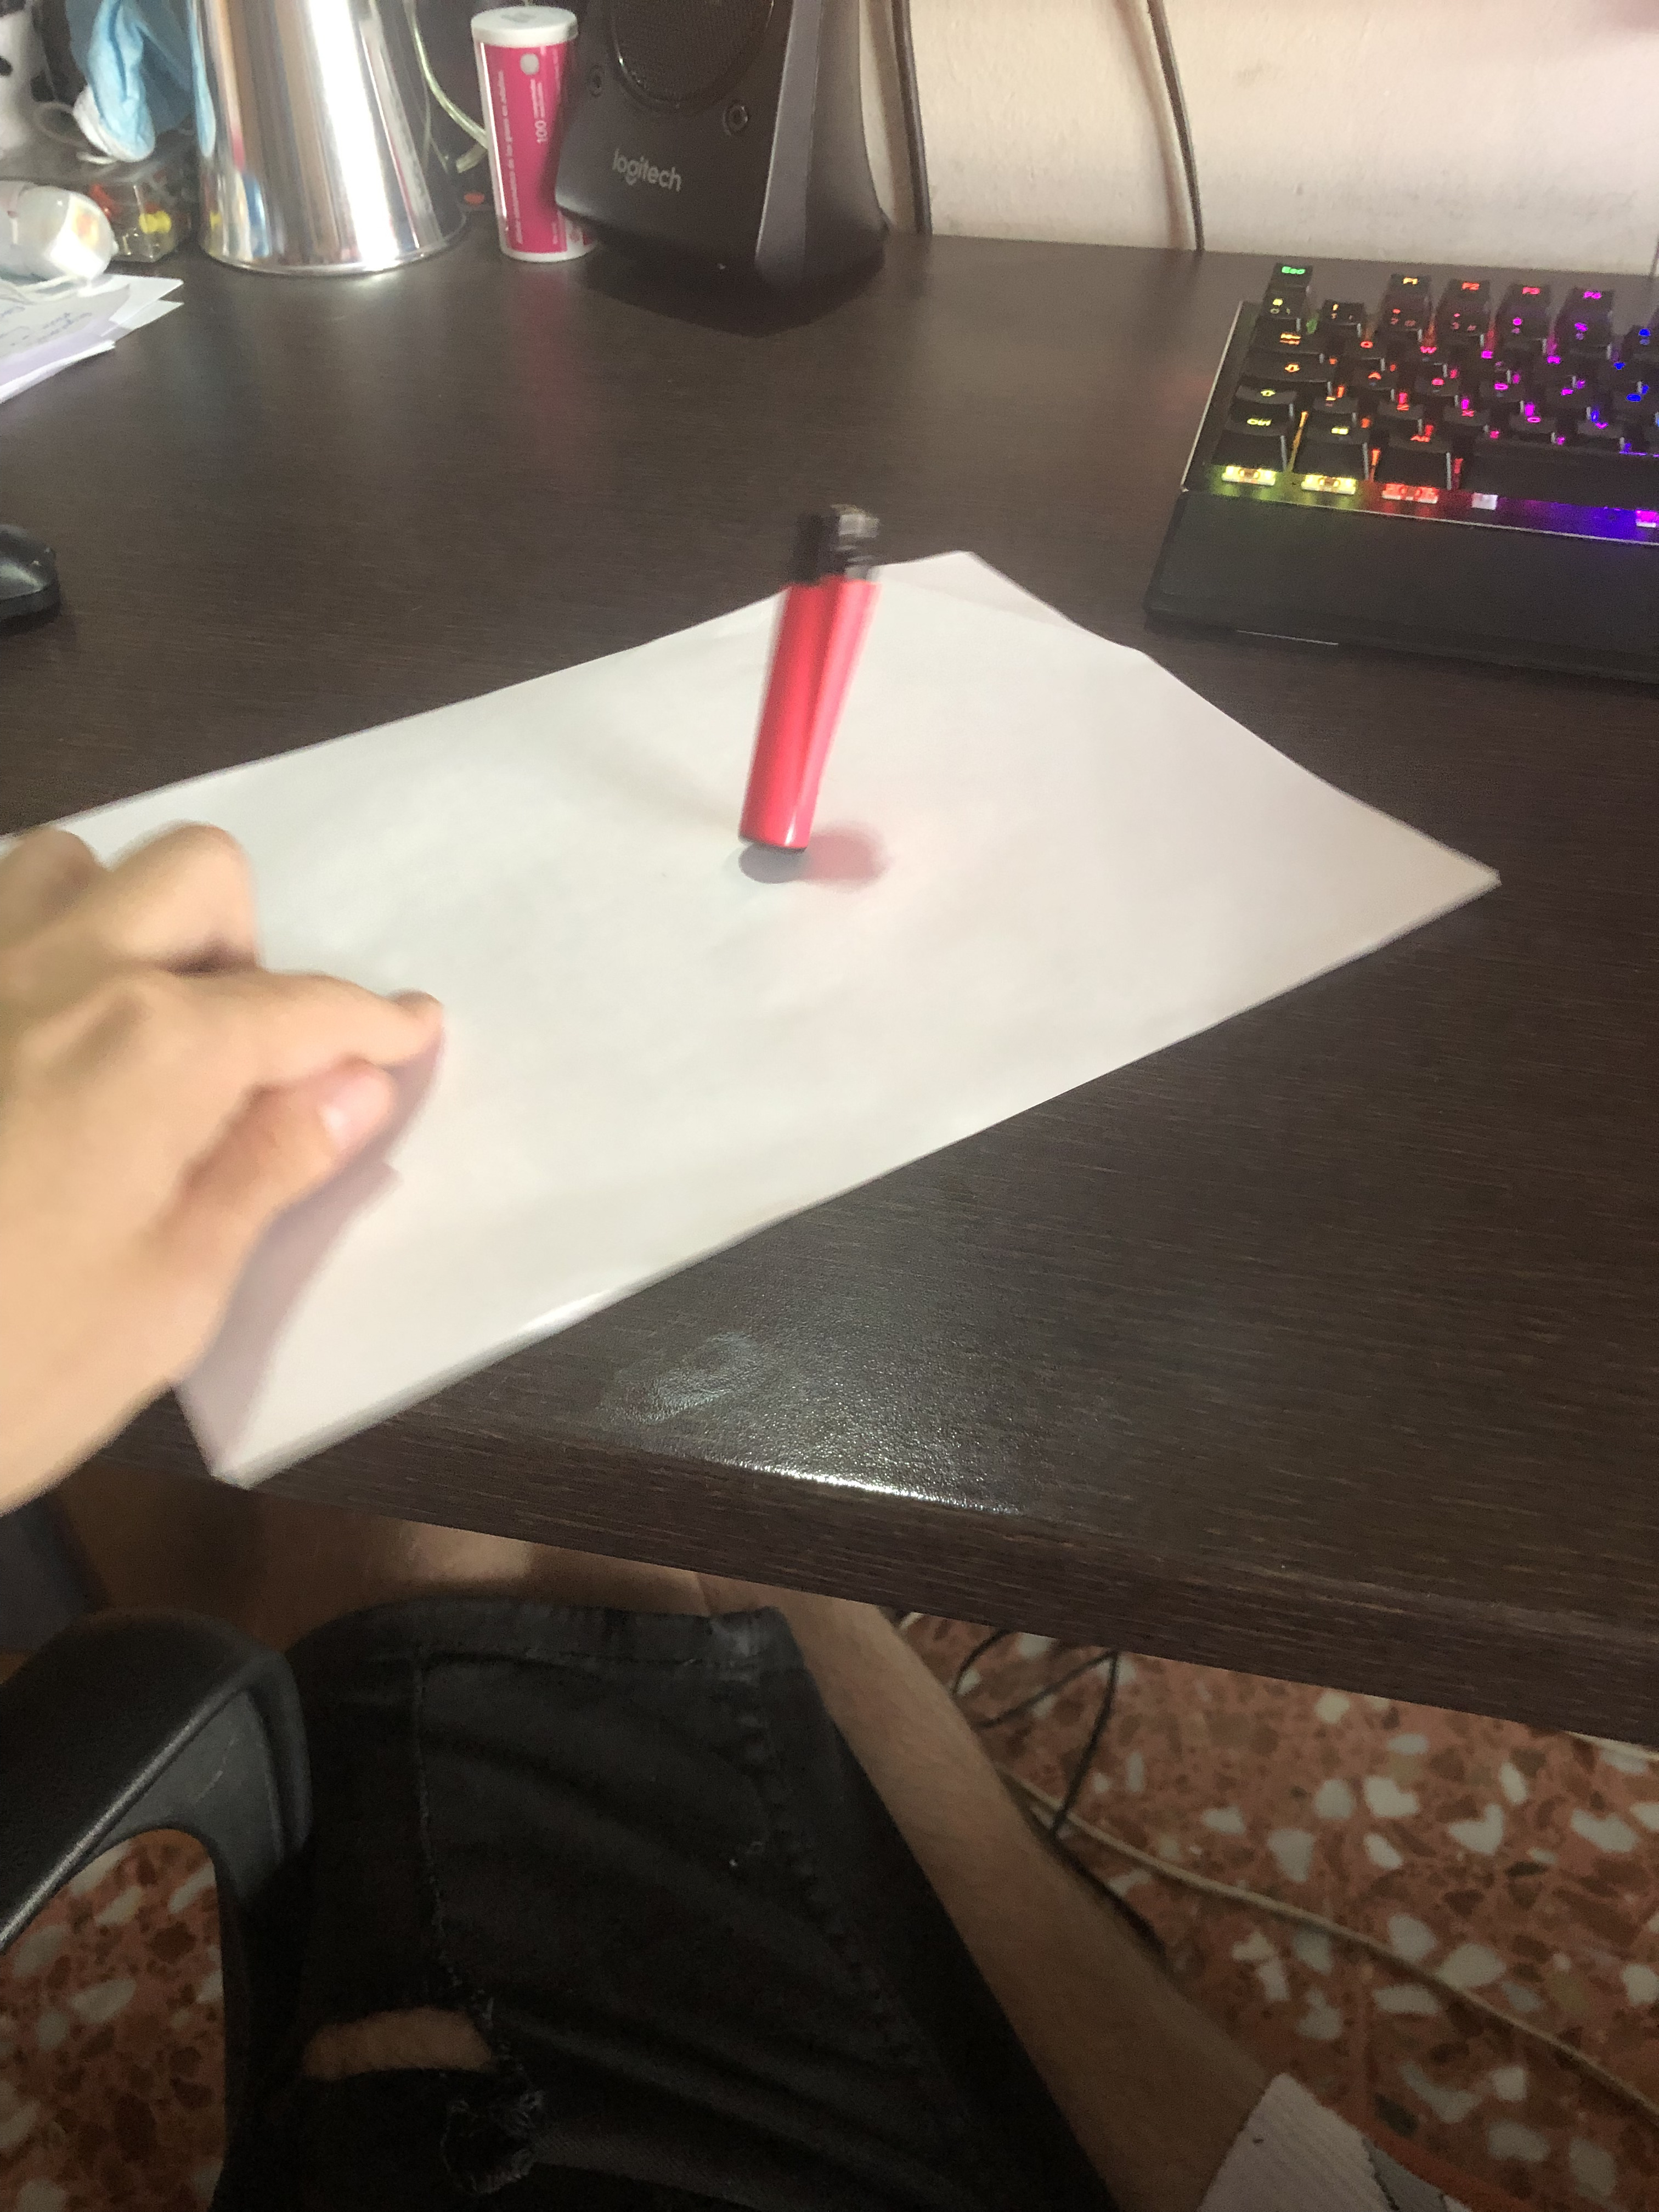Mechero: (714, 472, 897, 906)
